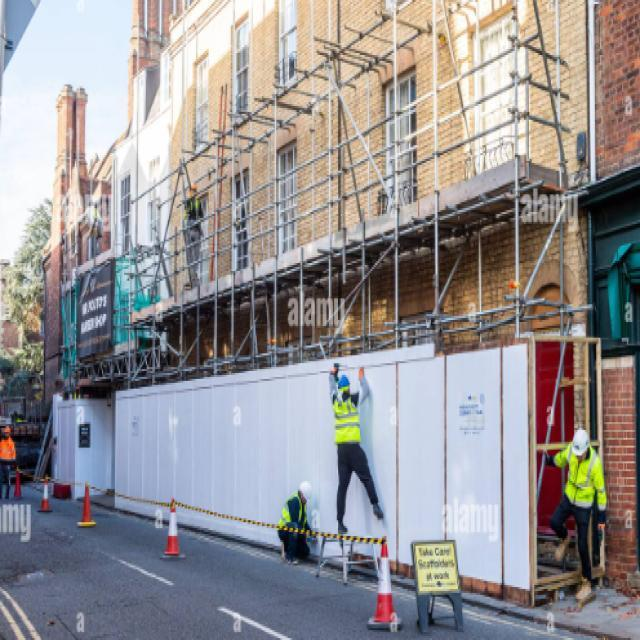hard_hat: (571, 428, 591, 464), (336, 373, 352, 396), (299, 480, 313, 506), (187, 184, 199, 196), (2, 427, 10, 440)
shoes: (555, 534, 593, 600), (337, 500, 384, 535), (280, 542, 300, 566), (186, 277, 199, 288), (0, 487, 10, 499)
vest: (548, 442, 611, 525), (332, 396, 362, 446), (278, 492, 308, 534), (184, 198, 203, 231), (0, 433, 15, 463)
